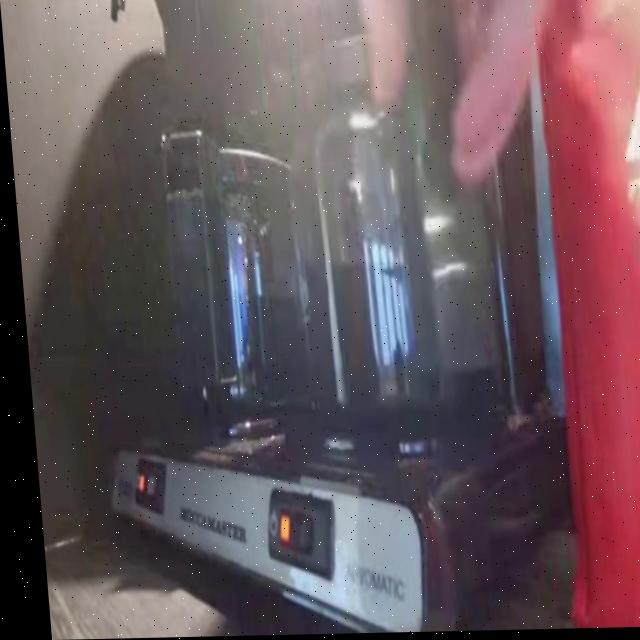coffee: (284, 195, 495, 430), (167, 203, 302, 422)
